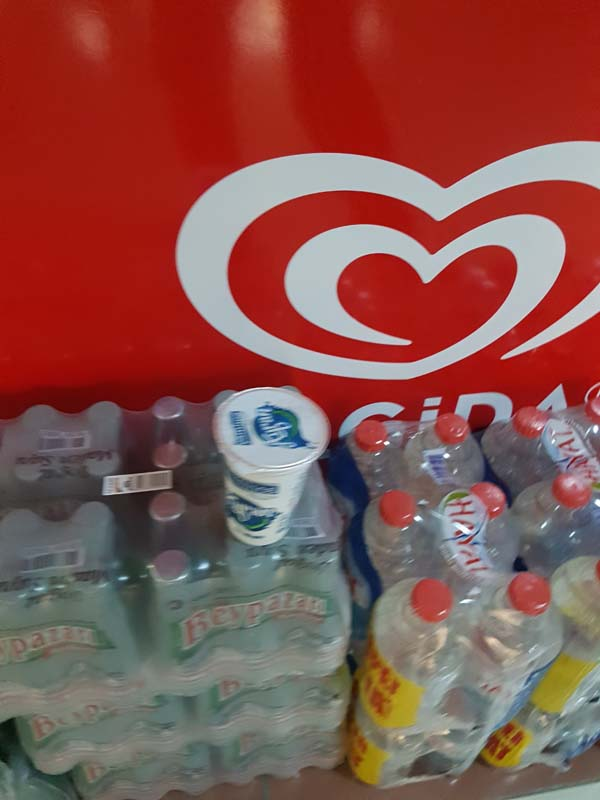camlicaayran: (202, 380, 335, 550)
